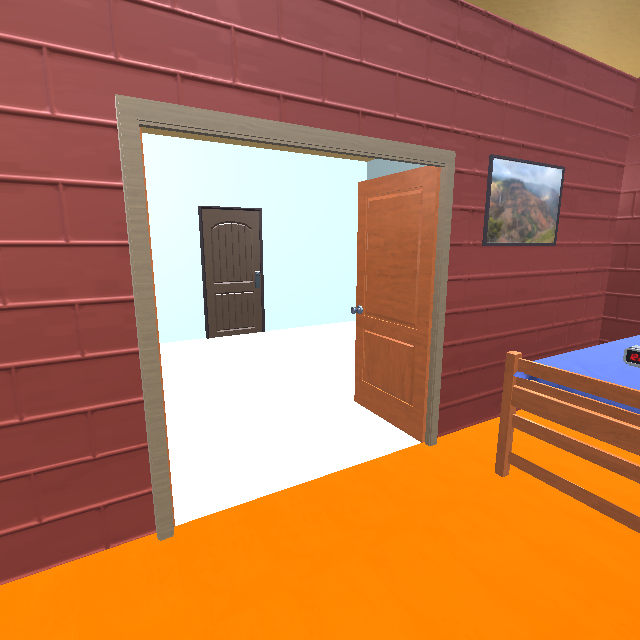open_doorway: (115, 94, 455, 540)
